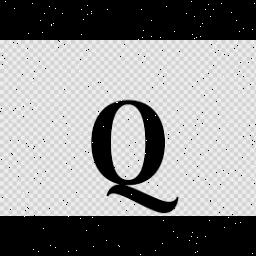q: (76, 92, 196, 216)
